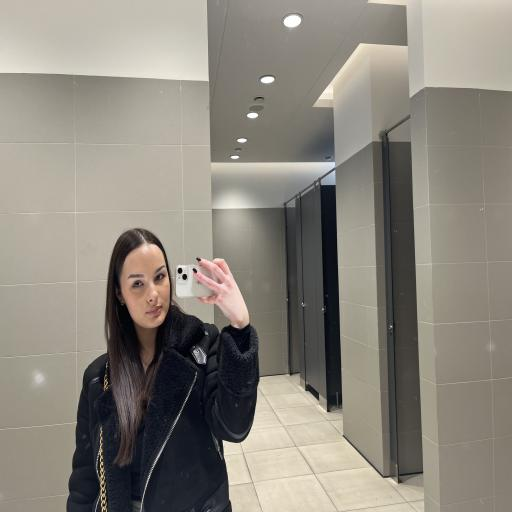marija: (120, 243, 173, 329)
